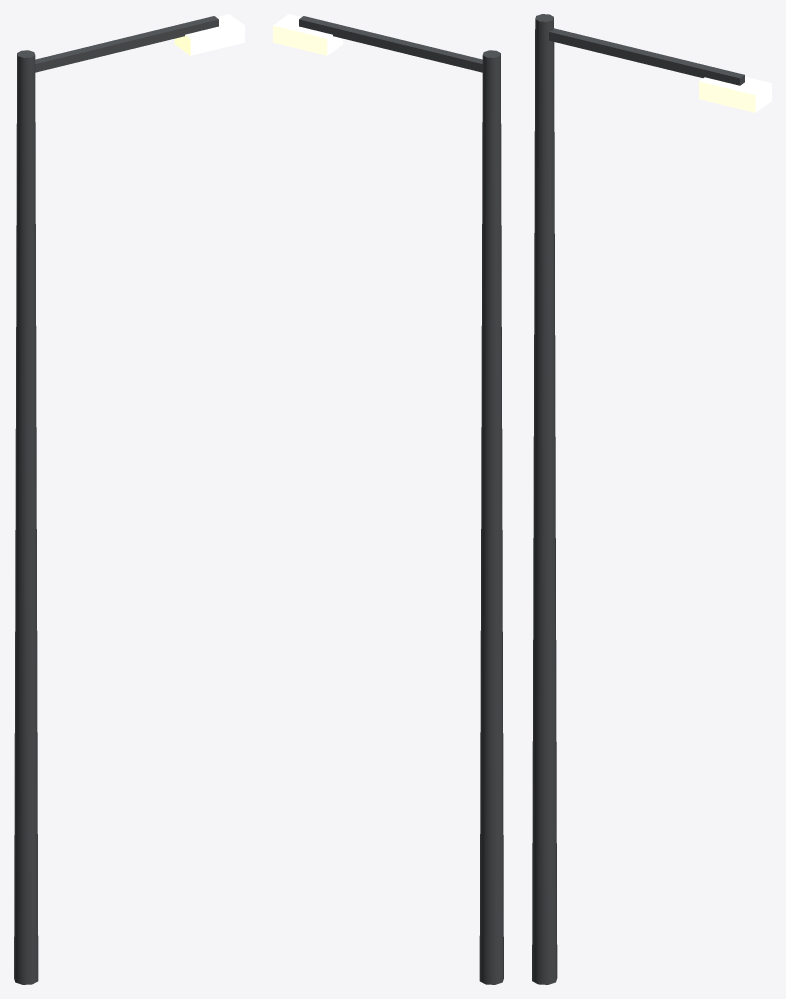
The model's file is lamp-post.glb.
3 renders of one model, left to right at view 1: azimuth 30°, elevation 25°; view 2: azimuth 150°, elevation 25°; view 3: azimuth 330°, elevation 25°, orthographic. The views are drawn at different scales.
Visible parts, largest first — view 1: lamp-post; view 2: lamp-post; view 3: lamp-post.
Boxes of the visible parts, box(x1,y1,x2,y2) form: lamp-post: box(14, 14, 244, 984); lamp-post: box(273, 14, 503, 984); lamp-post: box(532, 14, 771, 984).
Bounding box in the file's own units: 1.63 × 6.5 × 0.2.
